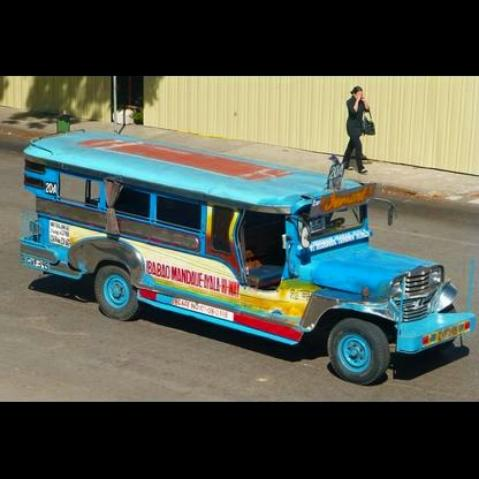jeepney: (15, 118, 479, 386)
